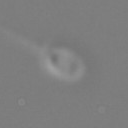normal: (1, 14, 47, 55)
